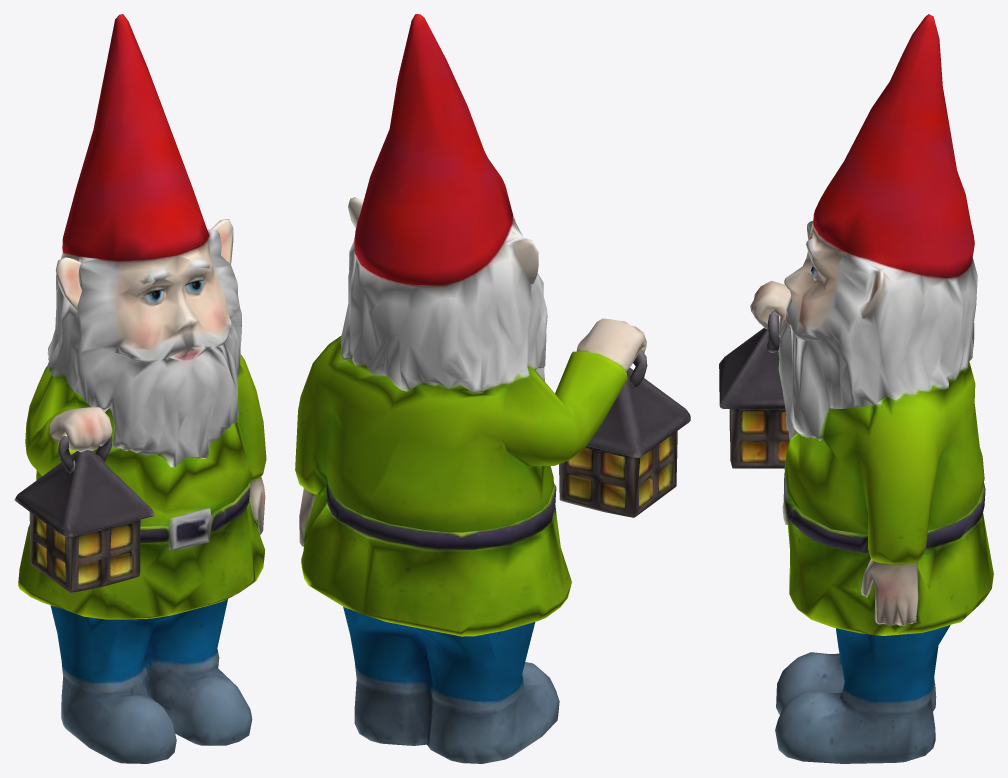
The model's file is garden_gnome.glb.
3 views of the same model, side by side, from view 1: azimuth 30°, elevation 25°; view 2: azimuth 150°, elevation 25°; view 3: azimuth 270°, elevation 25° (orthographic). The views are drawn at different scales.
Parts seen in each view (by area): view 1: garden_gnome; view 2: garden_gnome; view 3: garden_gnome.
Part boxes in pixels (<box>): garden_gnome: <box>14,14,266,763</box>; garden_gnome: <box>295,14,690,763</box>; garden_gnome: <box>719,14,993,763</box>.
Size of the model in its own units: 0.2574 by 0.5984 by 0.2092.
Materials: 1 (1 with a texture image).
